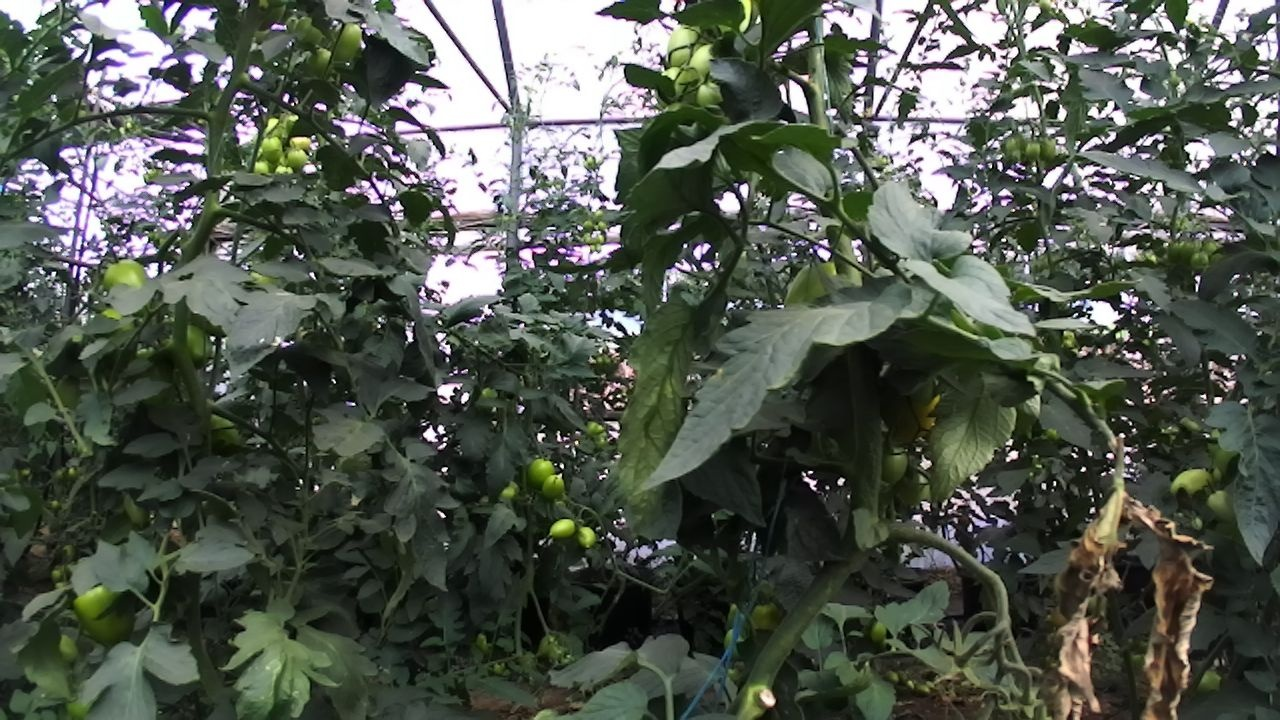tomato: (68, 566, 161, 657), (93, 239, 169, 330), (160, 311, 231, 380), (655, 14, 719, 79), (1162, 456, 1226, 515), (1197, 481, 1243, 531), (875, 440, 919, 491), (521, 450, 561, 497), (858, 610, 893, 653), (534, 467, 571, 505), (543, 510, 582, 545), (256, 131, 288, 168), (570, 520, 600, 555), (282, 143, 311, 176), (1033, 133, 1060, 164), (1186, 249, 1212, 276), (1022, 137, 1045, 165)
